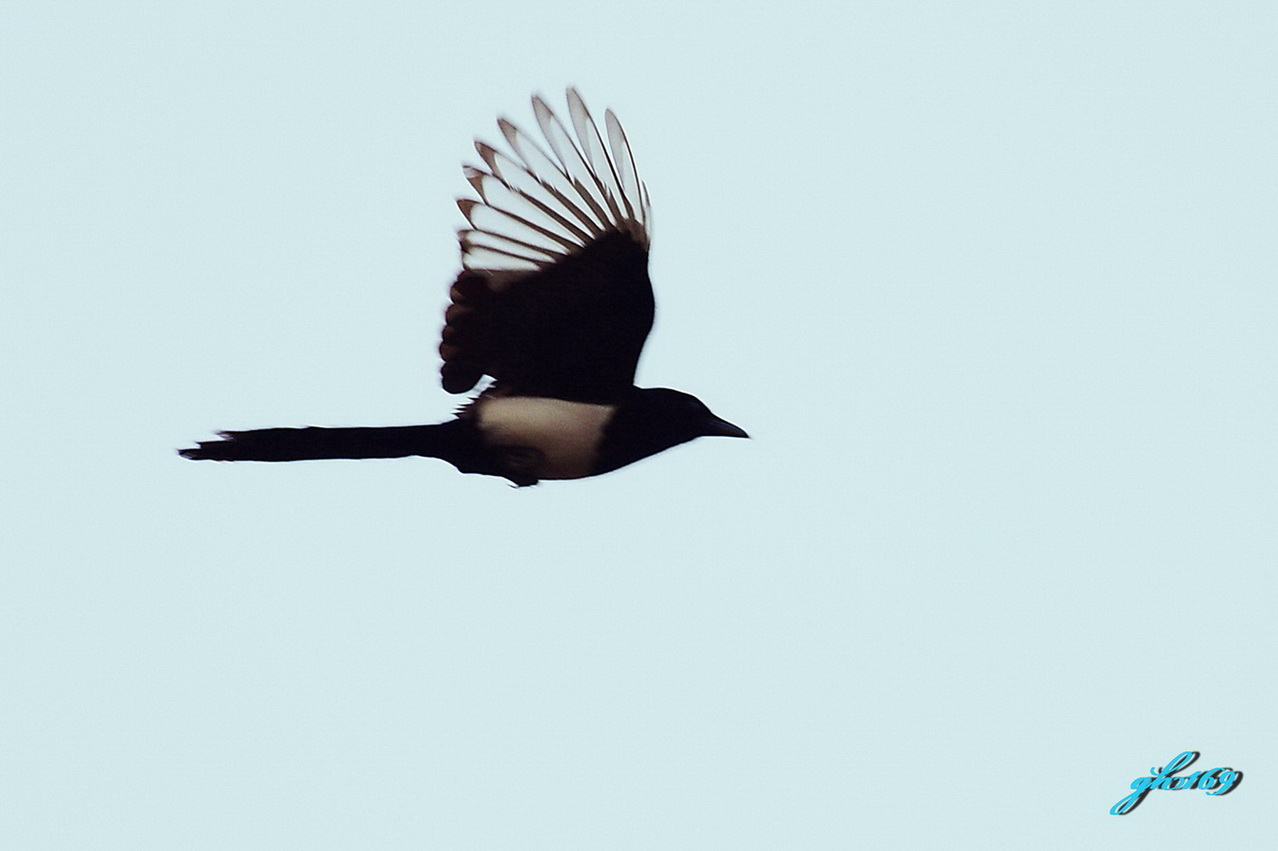bird: (176, 76, 750, 501)
